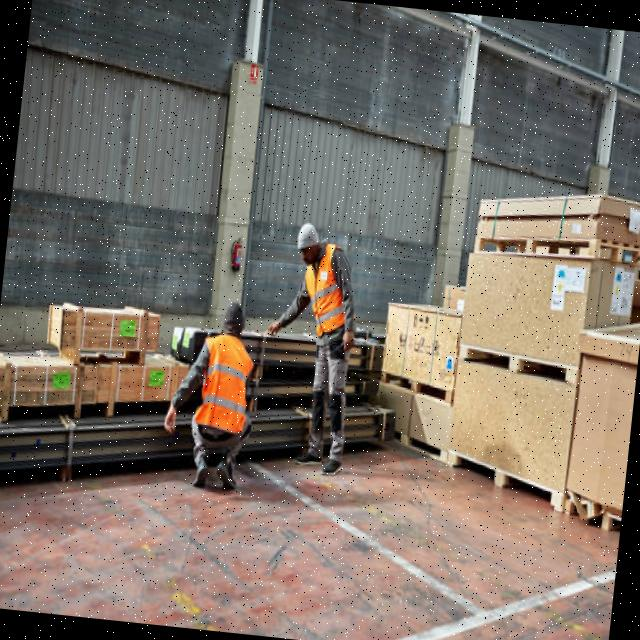Wooden-Pallets: (444, 445, 567, 513), (458, 343, 578, 388)
